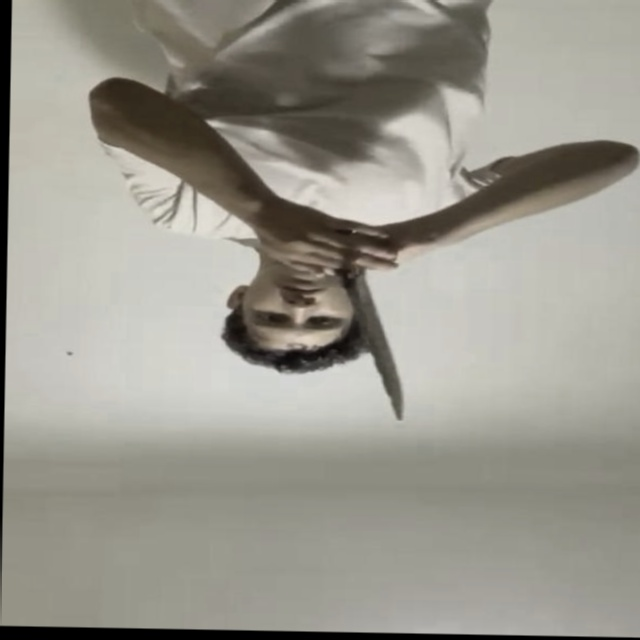Sharp-Object: (337, 274, 410, 416)
